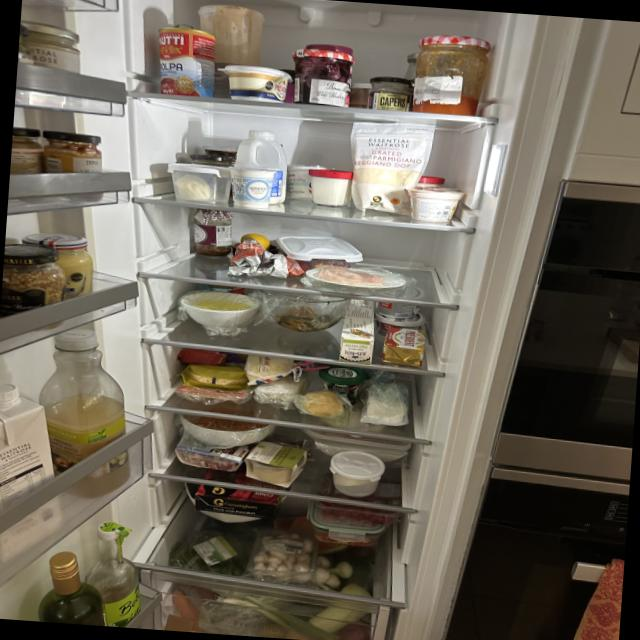Brocoli: (178, 527, 248, 570)
Carne cerdo: (173, 445, 240, 471), (176, 384, 246, 402)
Carne pollo: (308, 264, 388, 288)
Cebolla: (337, 621, 369, 640)
Champiñones: (252, 531, 316, 581)
Leche: (232, 126, 292, 203)
Limón: (240, 231, 272, 250)
Mantequilla: (216, 64, 290, 104), (382, 325, 430, 366)
Queso: (348, 128, 419, 208), (185, 364, 243, 388), (246, 352, 290, 378)
Yogur: (224, 166, 274, 208)
Zanahoria: (167, 586, 200, 626)
